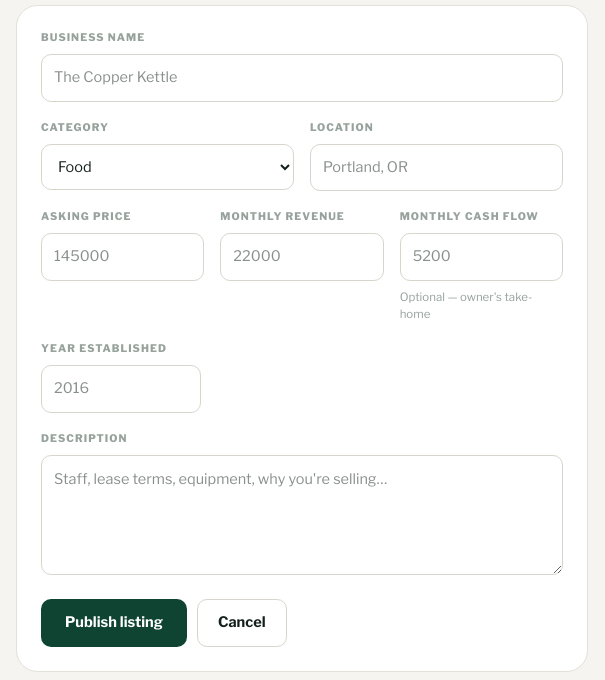
Scenario: ListingForm › shows validation errors and does not POST when the form is empty
(page scrolled)
What coordinates should you click on to do the following:
click the button "Publish listing"
I would click on:
 (114, 623)
Its box is [41,599,187,647].
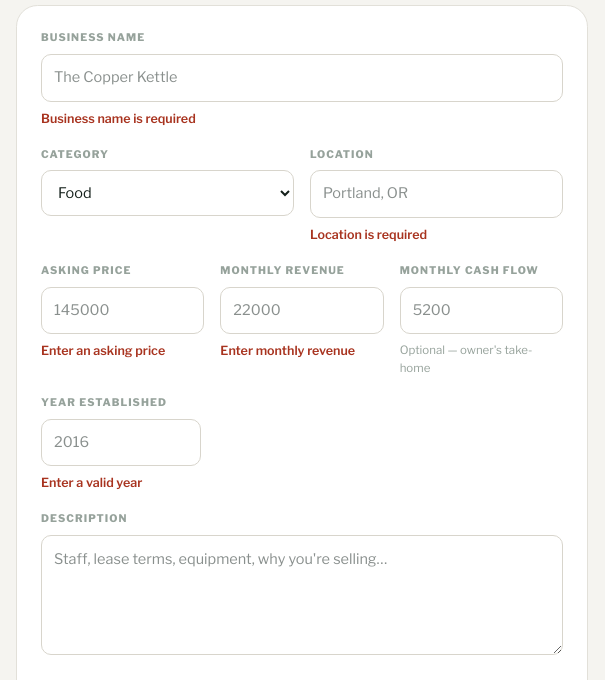
expect the text "Business name is required" is shown: met, box [41,111,196,126]
expect the text "Location is required" is shown: met, box [310,227,427,242]
expect the text "Enter an asking price" is shown: met, box [41,343,165,358]
